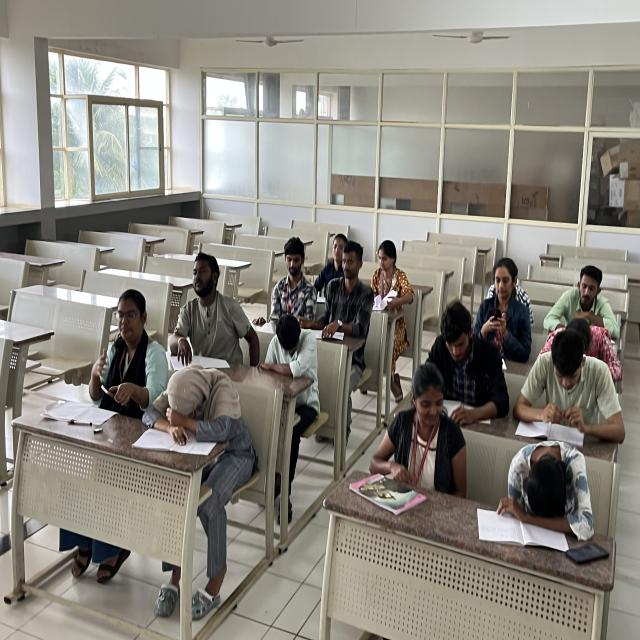Reading: (412, 302, 511, 424), (530, 318, 621, 432)
Sleeping: (138, 347, 284, 450), (486, 434, 608, 539)
Using Phone: (56, 261, 162, 419), (469, 254, 536, 346), (262, 304, 320, 386)
Writing: (295, 234, 381, 349), (361, 230, 422, 321)
